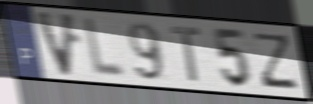5: (209, 25, 255, 89)
9: (127, 20, 166, 82)
L: (83, 15, 128, 81)
T: (168, 25, 203, 84)
V: (32, 8, 78, 79)
Z: (253, 31, 300, 91)
